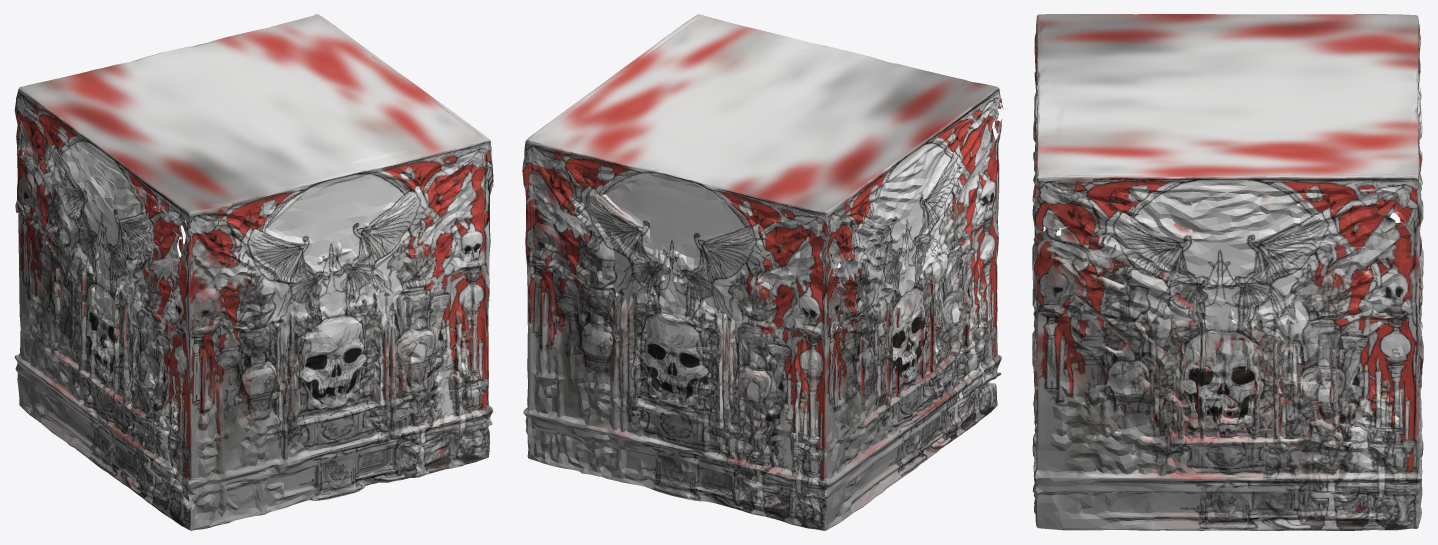
The model's file is altar_lady_lumen.glb.
The picture shows the model from 3 angles, left to right: view 1: azimuth 30°, elevation 25°; view 2: azimuth 150°, elevation 25°; view 3: azimuth 270°, elevation 25°; orthographic projection. The views are drawn at different scales.
Parts seen in each view (by area): view 1: altar_lady_lumen; view 2: altar_lady_lumen; view 3: altar_lady_lumen.
Boxes of the visible parts, bbox=[...] form: altar_lady_lumen: bbox=[14, 14, 493, 530]; altar_lady_lumen: bbox=[522, 14, 1003, 530]; altar_lady_lumen: bbox=[1032, 14, 1423, 530].
Size of the model in its own units: 2.55 by 2.5 by 2.5.
1 material, 1 textured.
